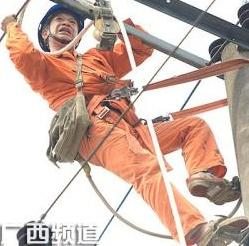boots: (185, 215, 249, 246), (186, 170, 241, 204)
gloves: (186, 170, 241, 204), (0, 14, 18, 33)
hard-hat: (37, 1, 85, 51)
ppe-suit: (1, 10, 235, 243)
